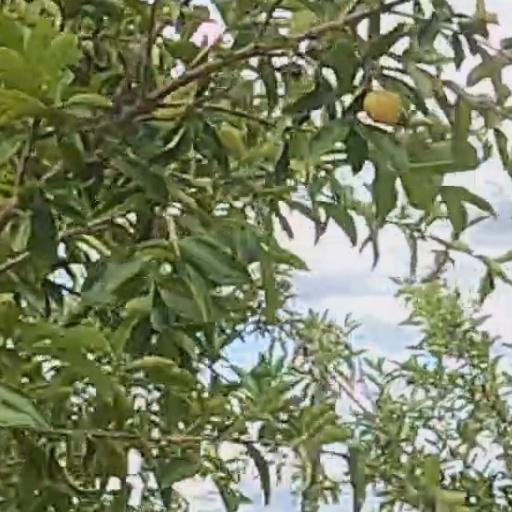acerola: (366, 91, 402, 125)
